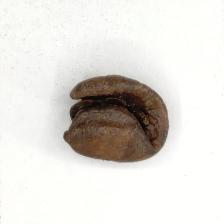NG: (63, 82, 161, 153)
